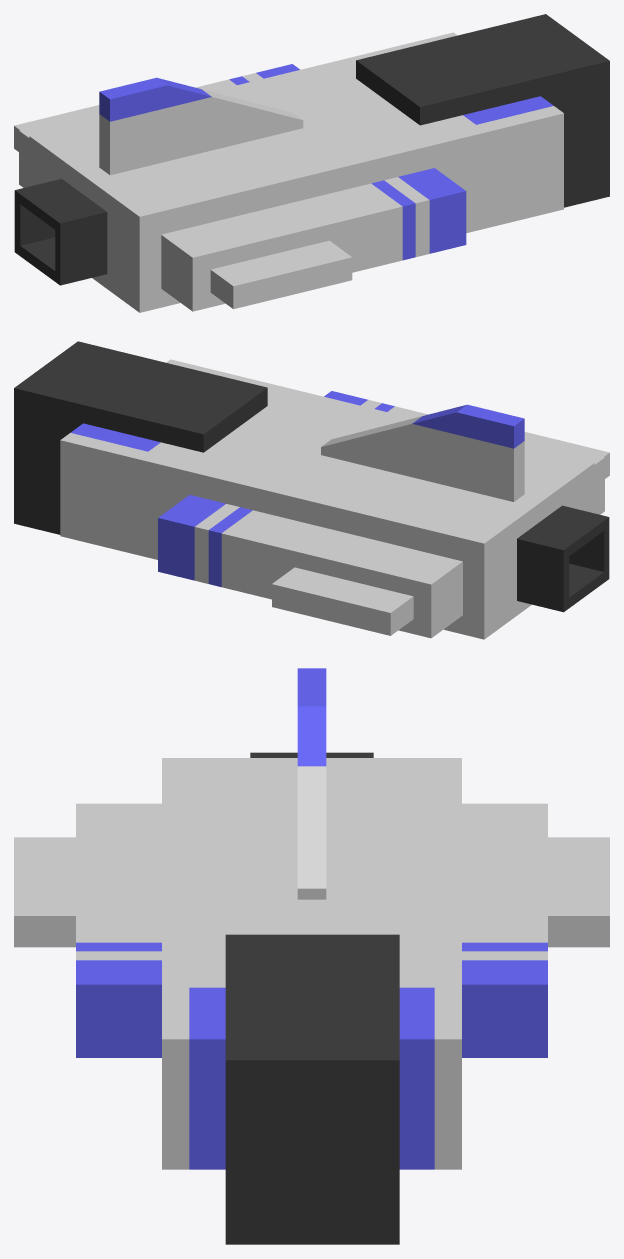
Rendered from Intrepid Fighter.fbx.
3 views of the same model, one above another, from view 1: azimuth 30°, elevation 25°; view 2: azimuth 150°, elevation 25°; view 3: azimuth 270°, elevation 25° (orthographic). The views are drawn at different scales.
Parts seen in each view (by area): view 1: Group_13_1; view 2: Group_13_1; view 3: Group_13_1.
Part boxes in pixels (bbox=[...]): Group_13_1: bbox=[14, 14, 609, 312]; Group_13_1: bbox=[14, 341, 609, 639]; Group_13_1: bbox=[14, 668, 609, 1244].
Bounding box in the file's own units: 68.78 × 23.49 × 48.35.
